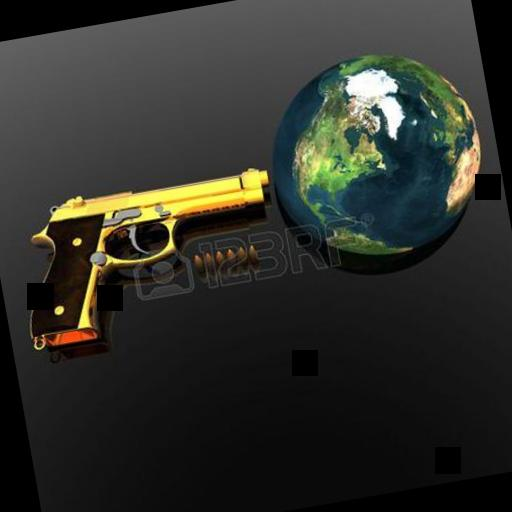Handgun: (2, 140, 288, 354)
